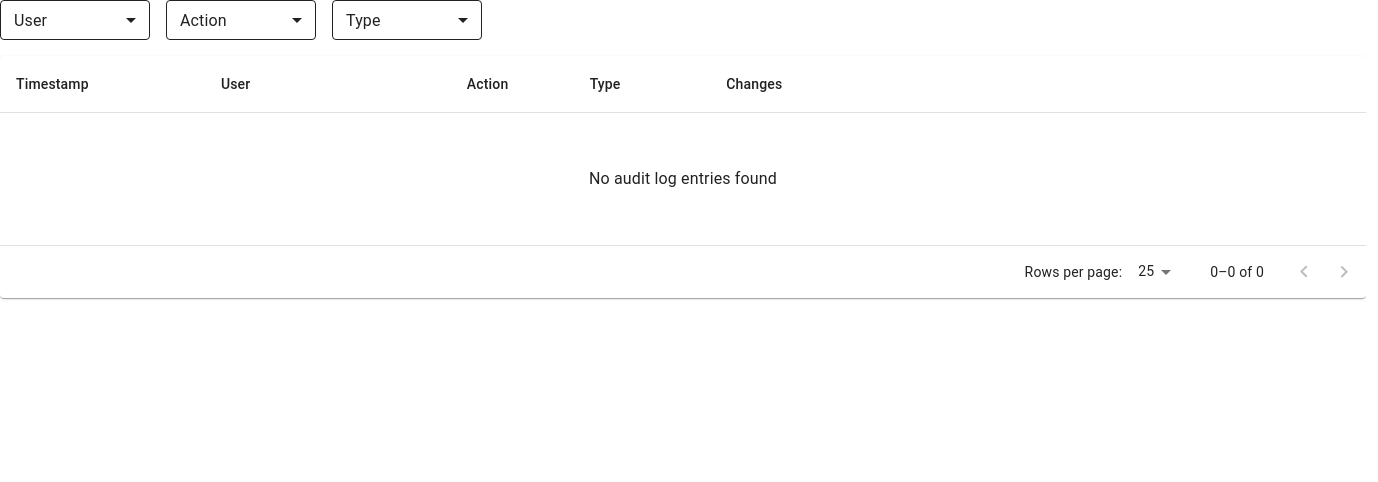
AuditLogViewer › shows Kick Out in action filter dropdown
Step 1. Press the mouse on the dropdown named "Action" → (241, 20), box x1=166 y1=0 x2=316 y2=40
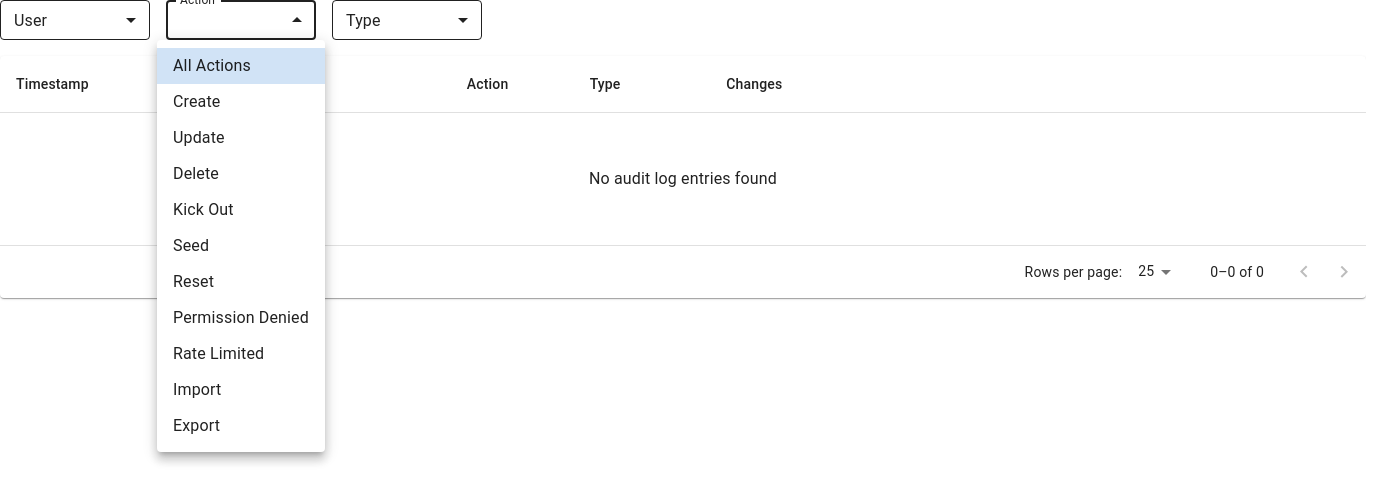
Check: the option "Kick Out" is shown, box x1=173 y1=200 x2=234 y2=219
